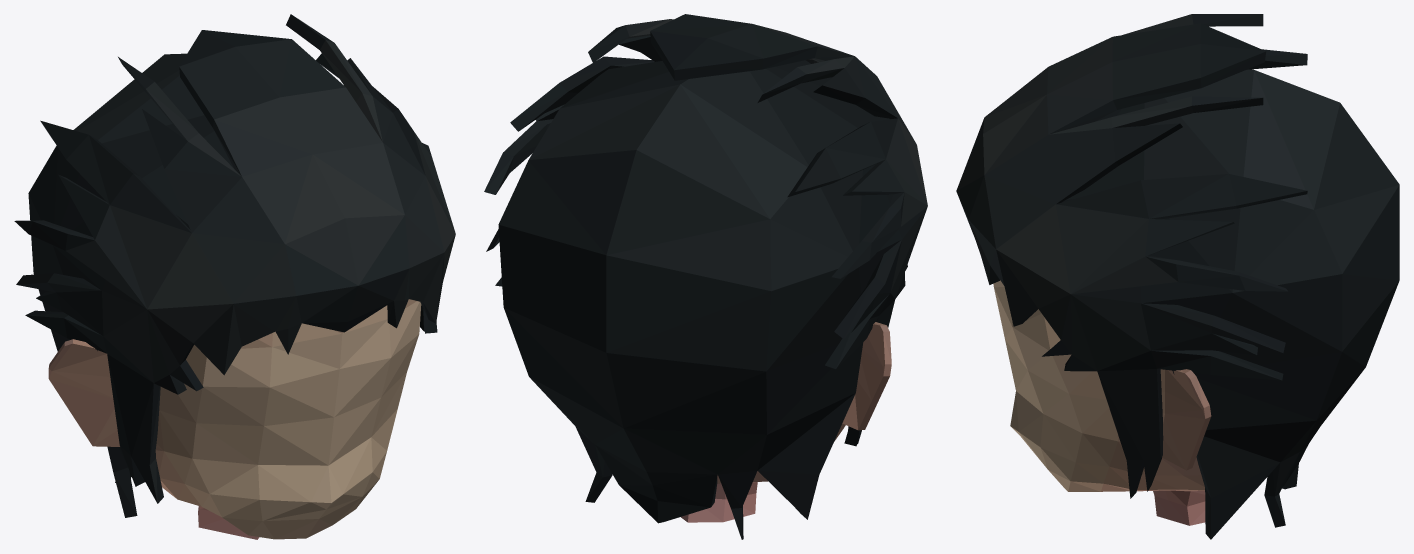
Rendered from helm_lightskin_spike_black.fbx.
3 renders of one model, left to right at view 1: azimuth 30°, elevation 25°; view 2: azimuth 150°, elevation 25°; view 3: azimuth 270°, elevation 25°, orthographic.
Parts seen in each view (by area): view 1: helm_lightskin_spike_black; view 2: helm_lightskin_spike_black; view 3: helm_lightskin_spike_black.
Part boxes in pixels (x1,y1,x2,y2): helm_lightskin_spike_black: [14, 14, 455, 539]; helm_lightskin_spike_black: [484, 14, 927, 539]; helm_lightskin_spike_black: [956, 14, 1399, 539].
Size of the model in its own units: 1.13 by 1.39 by 1.18.
